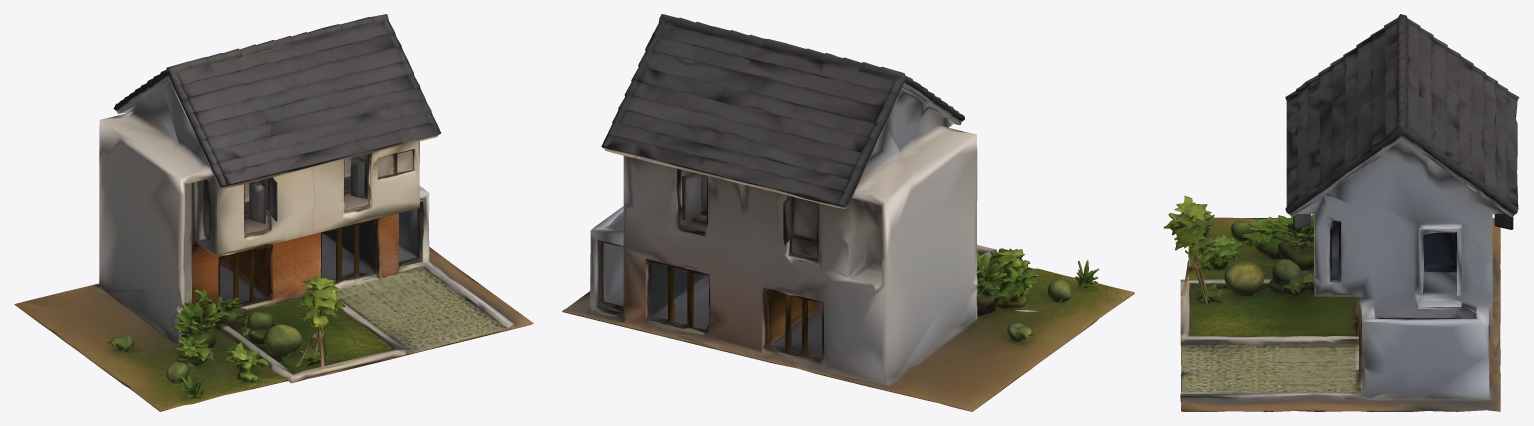
The model's file is rumah_glen.glb.
3 renders of one model, left to right at view 1: azimuth 30°, elevation 25°; view 2: azimuth 150°, elevation 25°; view 3: azimuth 270°, elevation 25°, orthographic. The views are drawn at different scales.
Parts seen in each view (by area): view 1: tripo_node_5843eb3b-a6db-4705-9252-c123da2f80e6; view 2: tripo_node_5843eb3b-a6db-4705-9252-c123da2f80e6; view 3: tripo_node_5843eb3b-a6db-4705-9252-c123da2f80e6.
Part boxes in pixels (left/top/right/bottom): tripo_node_5843eb3b-a6db-4705-9252-c123da2f80e6: left=14, top=14, right=533, bottom=411; tripo_node_5843eb3b-a6db-4705-9252-c123da2f80e6: left=562, top=14, right=1134, bottom=411; tripo_node_5843eb3b-a6db-4705-9252-c123da2f80e6: left=1163, top=14, right=1519, bottom=411.
Size of the model in its own units: 0.9993 by 0.6387 by 0.7787.
1 material, 1 textured.
